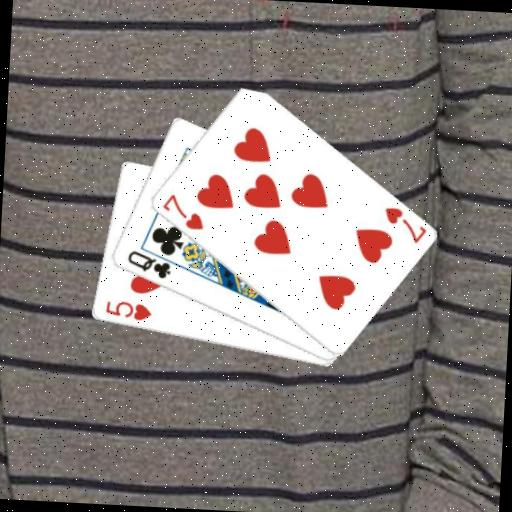5H: (102, 298, 154, 324)
7H: (379, 204, 430, 246), (158, 191, 207, 232)
QC: (123, 247, 173, 281)
